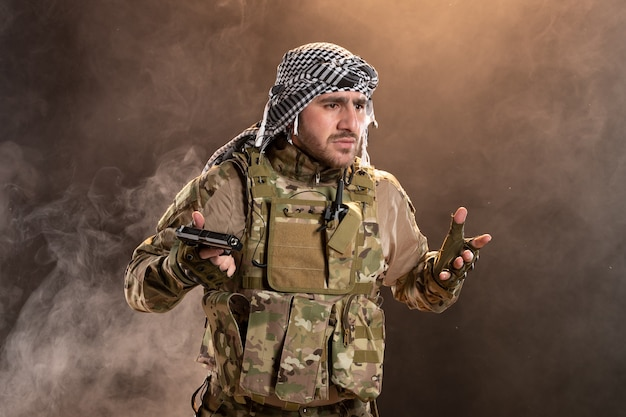gun: (171, 222, 245, 256)
